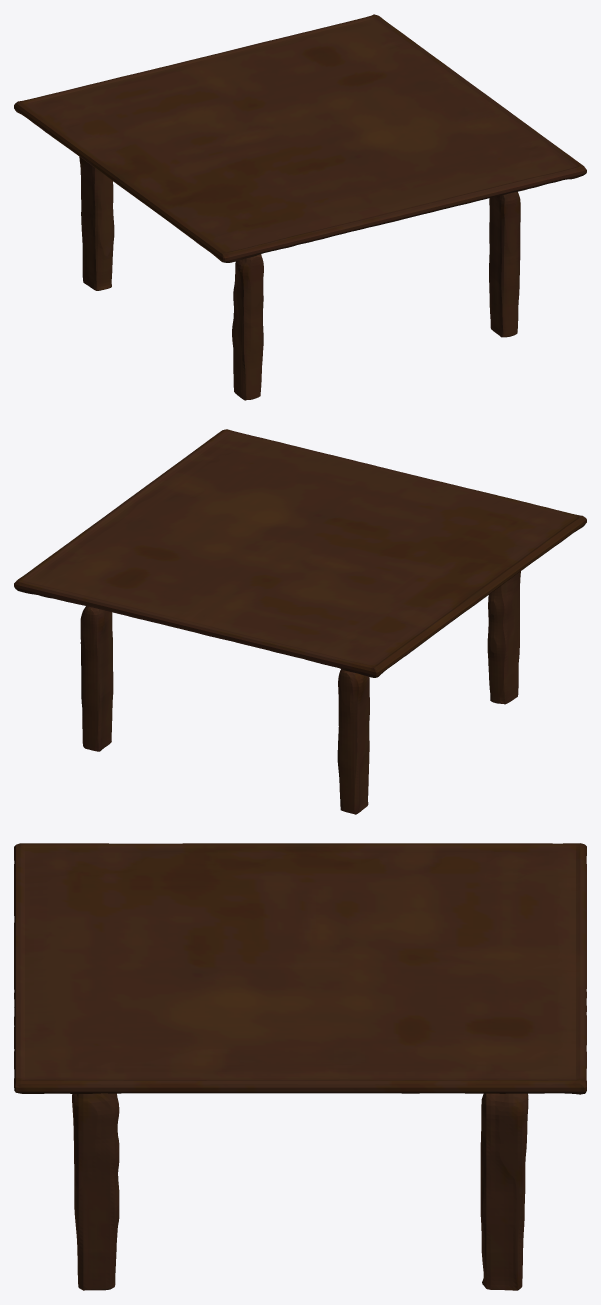
Rendered from wood_table.glb.
The picture shows the model from 3 angles, top to bottom: view 1: azimuth 30°, elevation 25°; view 2: azimuth 150°, elevation 25°; view 3: azimuth 270°, elevation 25°; orthographic projection. The views are drawn at different scales.
Visible parts, largest first — view 1: tmpy0doubrs.ply; view 2: tmpy0doubrs.ply; view 3: tmpy0doubrs.ply.
Part boxes in pixels (<box>): tmpy0doubrs.ply: <box>14,14,586,400</box>; tmpy0doubrs.ply: <box>14,429,586,814</box>; tmpy0doubrs.ply: <box>14,843,586,1290</box>.
Size of the model in its own units: 1.98 by 0.914 by 1.98.
